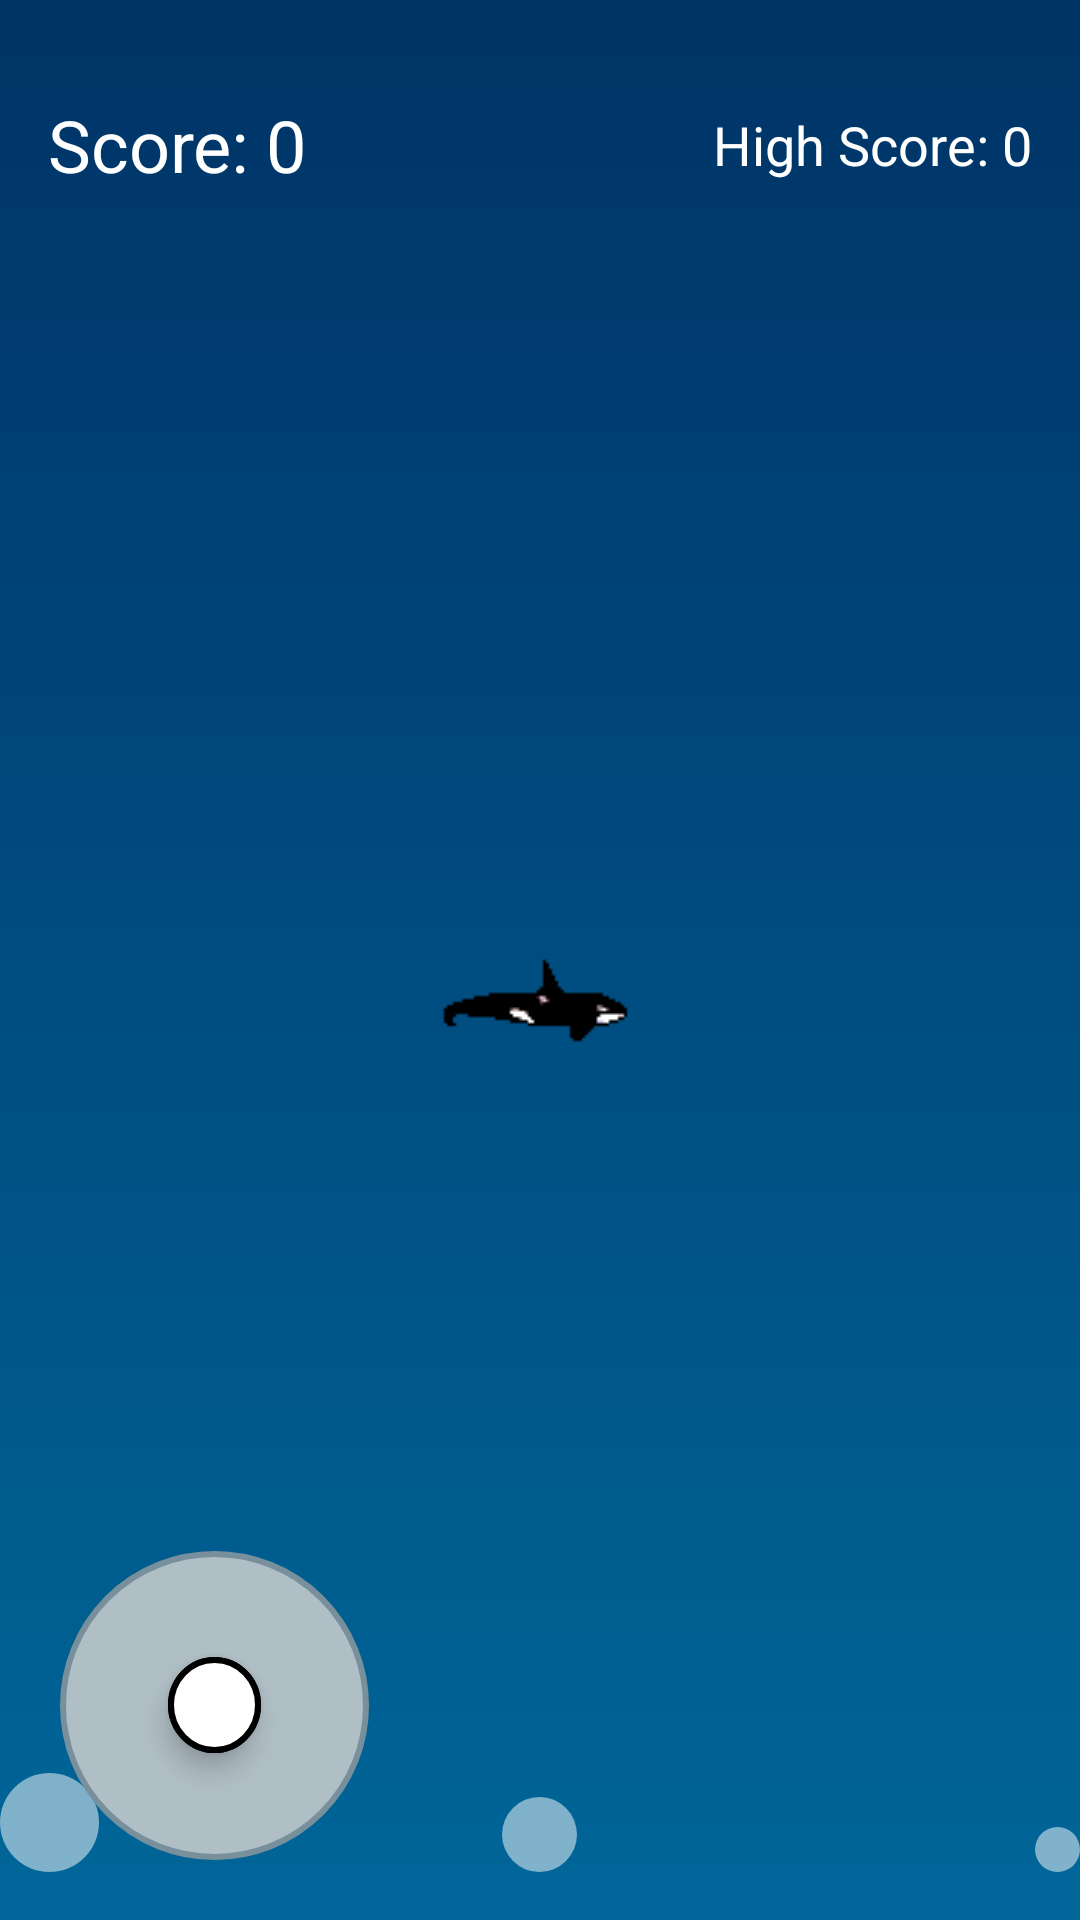

Named icons in this screenshot (1080 × 1920) and their bounding boxes, (x1, y1, x2, y2):
bubble: (0, 1773, 99, 1872), (502, 1797, 577, 1872), (1035, 1827, 1080, 1872)
joystick handle: (168, 1657, 261, 1753)
whale animation: (443, 959, 628, 1042)
